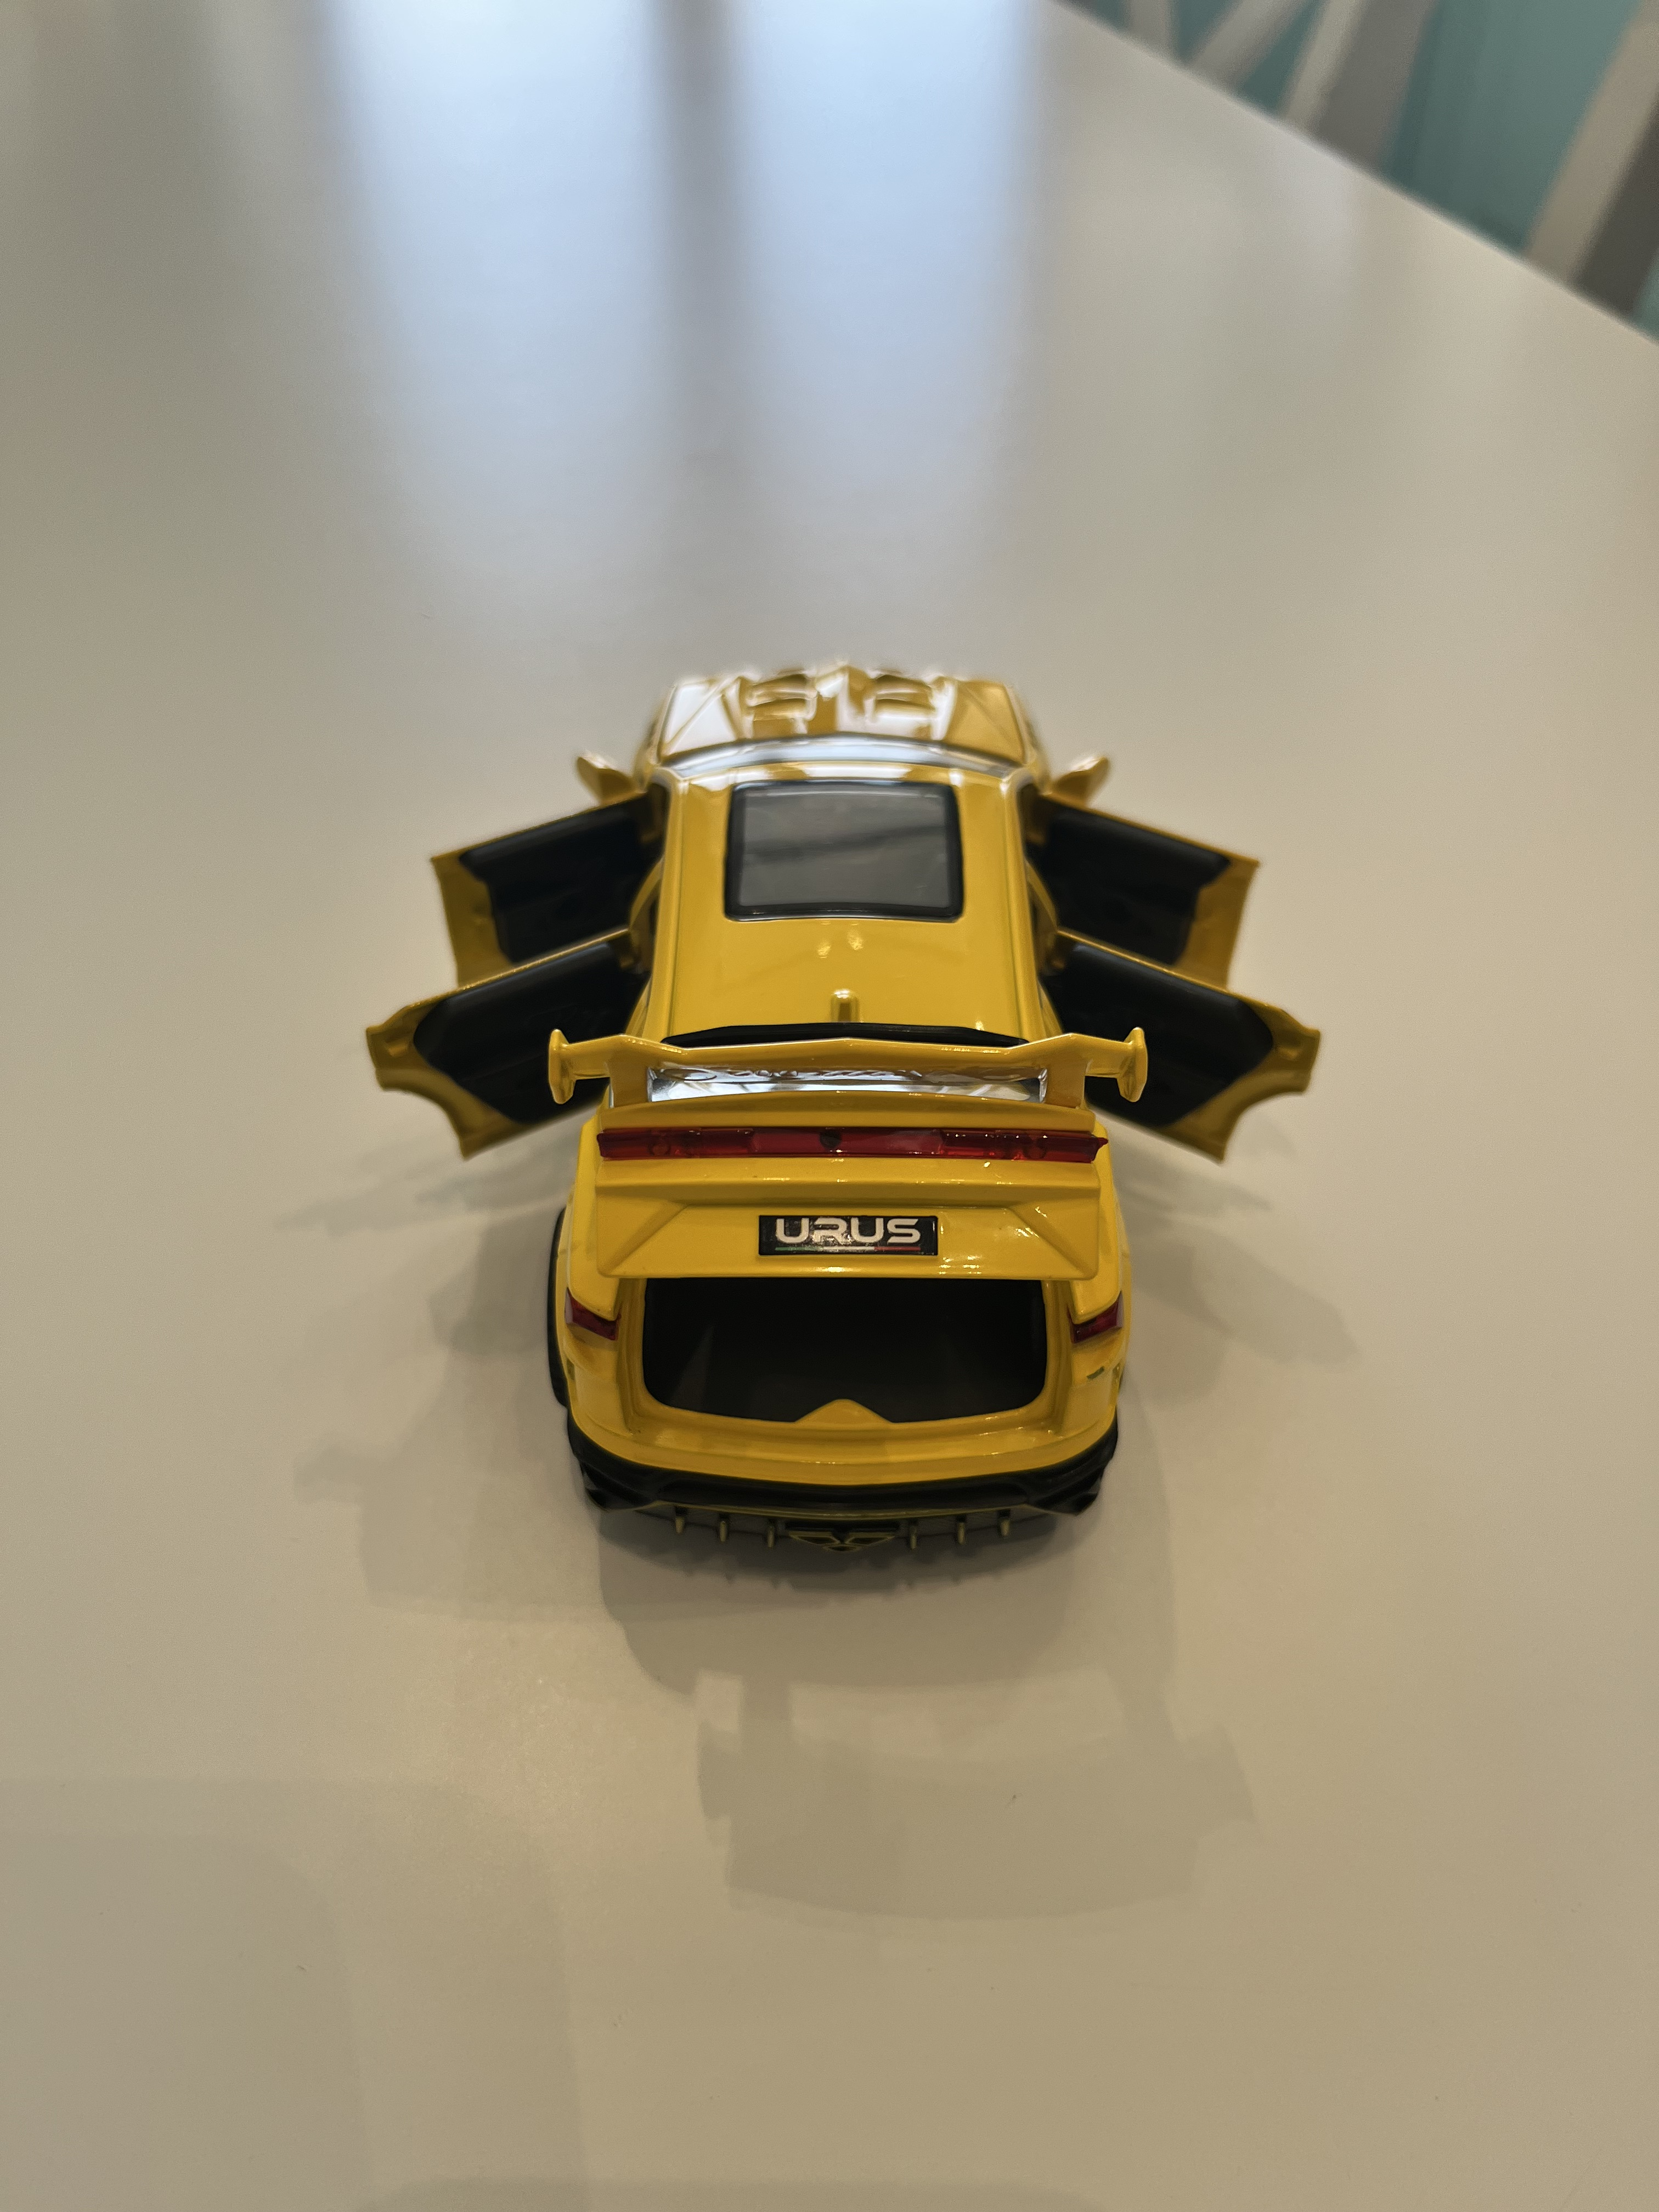lambo: (368, 543, 1331, 1581)
